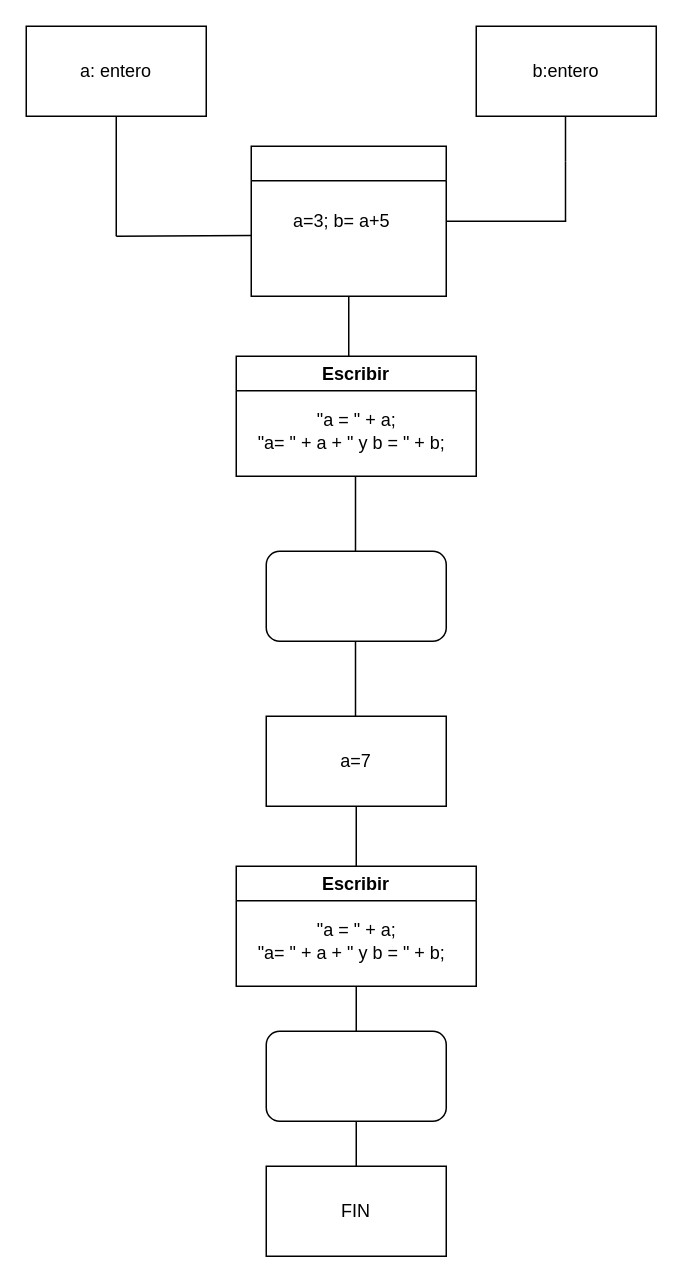
Image size: 683x1283. Some labels were removed from this diagram. Here are the shapes that lost their labels. From the top down, the box of each, then its label:
(250, 145, 446, 296): INICIO
(265, 550, 446, 641): a = 3; a= 3 y b= 8;
(265, 1030, 446, 1121): a = 7; a= 7 y b= 12;
